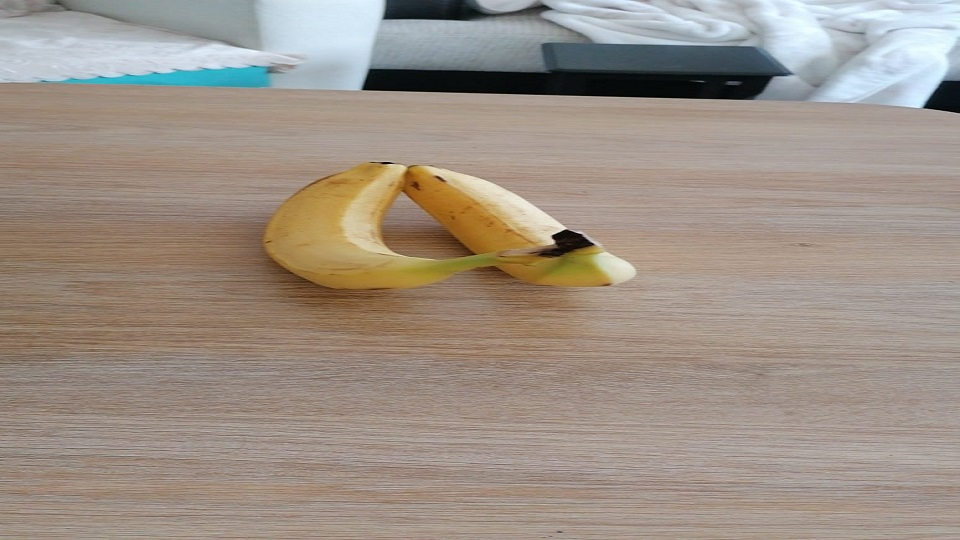muz: (261, 160, 562, 292), (407, 163, 637, 288)
